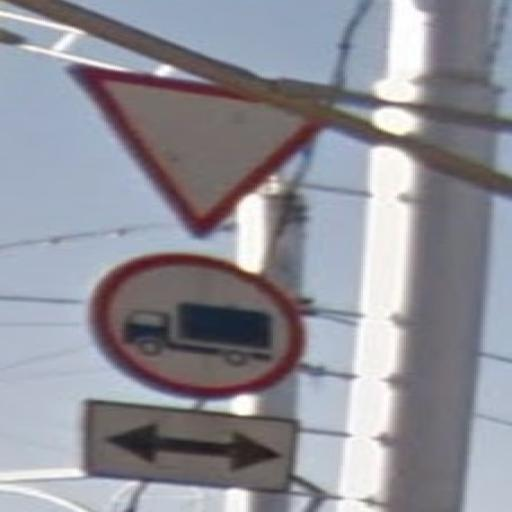traffic_sign: (67, 62, 331, 242), (91, 253, 312, 400)
